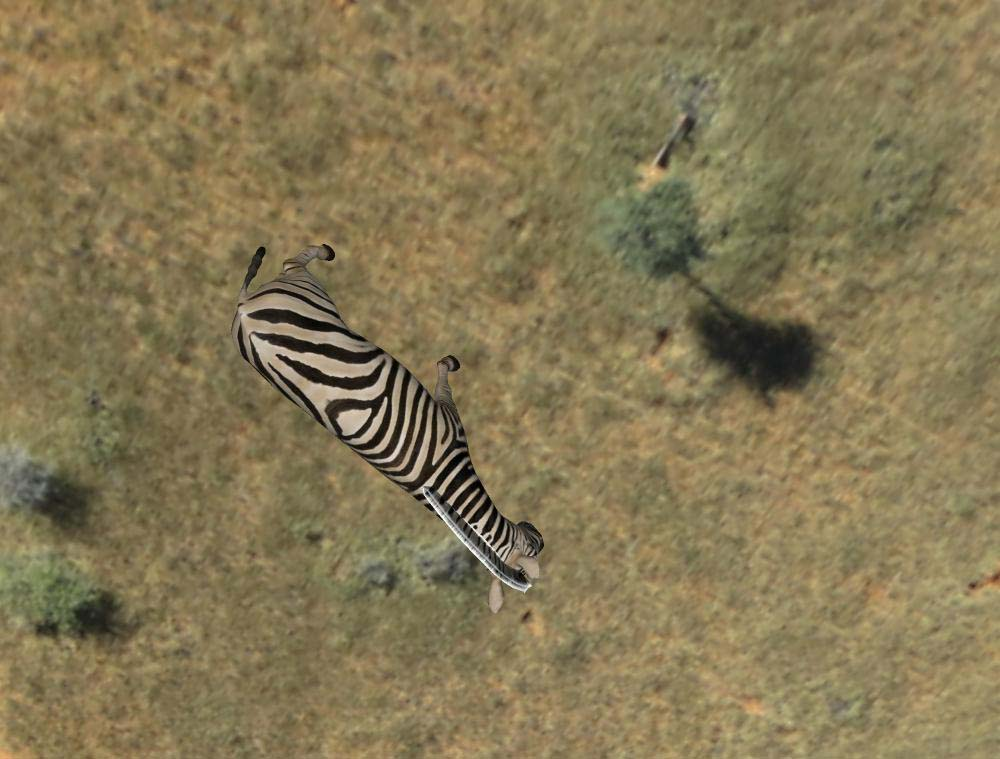zebra: (225, 239, 545, 596)
